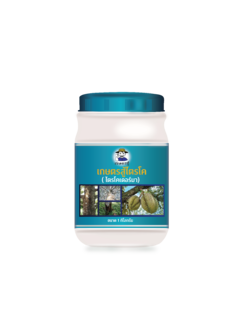Insecticide: (71, 89, 178, 257)
